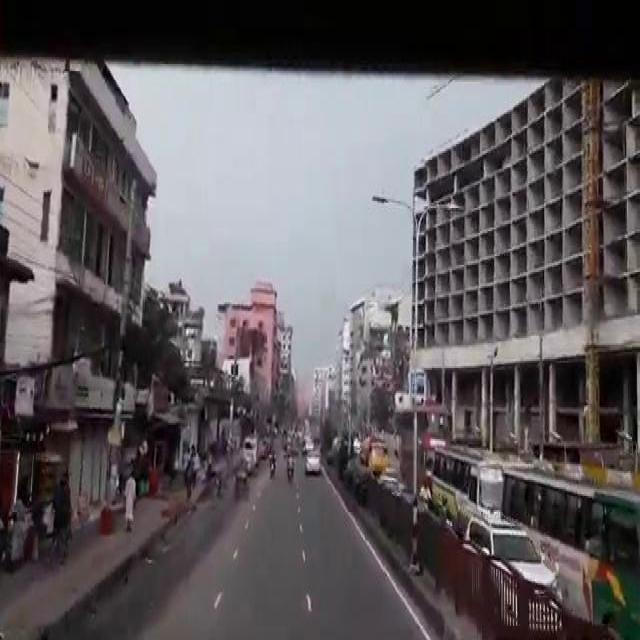Bus: (421, 430, 640, 634)
Car: (462, 512, 560, 606)
Motorcycle: (285, 453, 295, 482), (268, 452, 276, 478)
